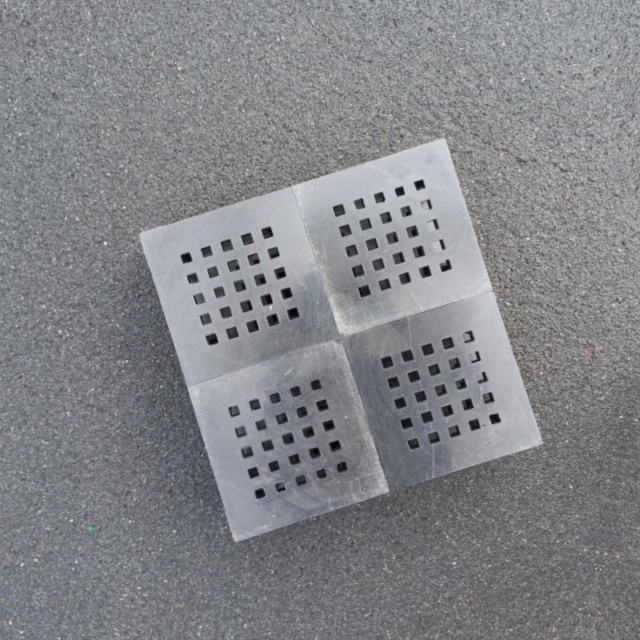pallet: (128, 116, 560, 553)
